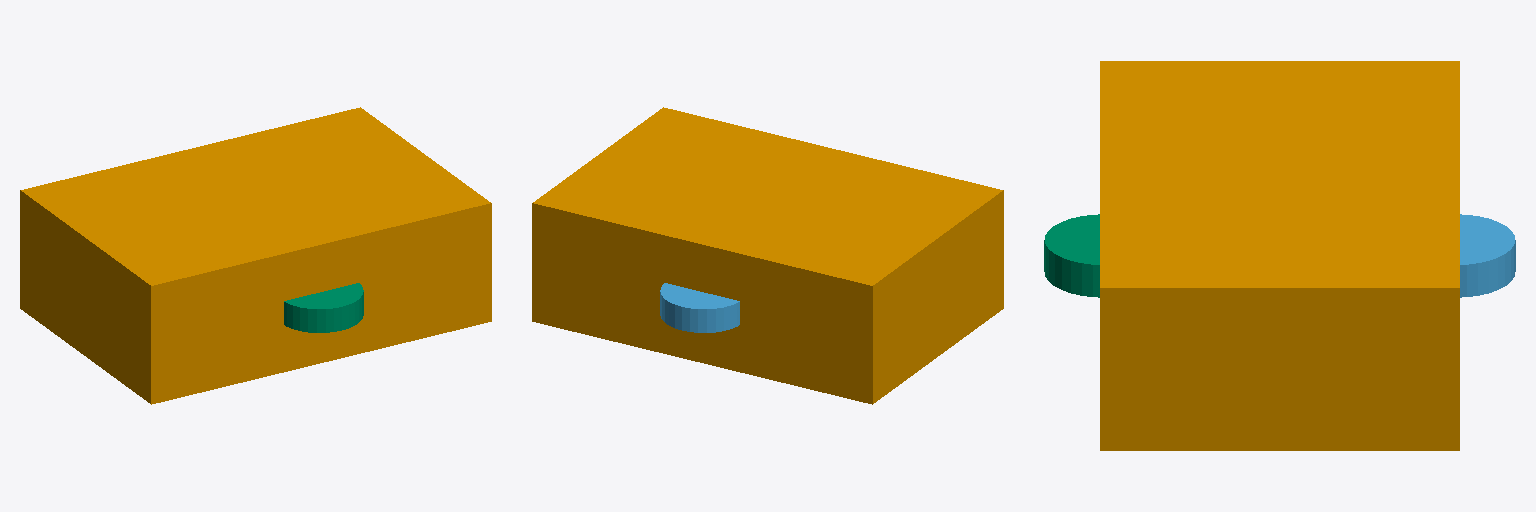
URDF robot description (my_robot):
<?xml version="1.0"?>
<robot name="my_robot">

  <!-- Base link -->
  <link name="base_link">
    <visual>
      <geometry>
        <box size="0.3 0.2 0.1"/>
      </geometry>
      <material name="gray"/>
    </visual>
  </link>

  <!-- Left wheel link -->
  <link name="left_wheel_link">
    <visual>
      <geometry>
        <cylinder radius="0.03354" length="0.02"/>
      </geometry>
      <material name="black"/>
    </visual>
  </link>

  <!-- Right wheel link -->
  <link name="right_wheel_link">
    <visual>
      <geometry>
        <cylinder radius="0.03354" length="0.02"/>
      </geometry>
      <material name="black"/>
    </visual>
  </link>

  <!-- Left wheel joint -->
  <joint name="left_wheel_joint" type="continuous">
    <parent link="base_link"/>
    <child link="left_wheel_link"/>
    <origin xyz="0 0.0975 0" rpy="0 0 0"/>
    <axis xyz="0 1 0"/>
  </joint>

  <!-- Right wheel joint -->
  <joint name="right_wheel_joint" type="continuous">
    <parent link="base_link"/>
    <child link="right_wheel_link"/>
    <origin xyz="0 -0.0975 0" rpy="0 0 0"/>
    <axis xyz="0 1 0"/>
  </joint>

  <!-- Left wheel transmission -->
  <transmission name="left_wheel_trans">
    <type>transmission_interface/SimpleTransmission</type>
    <joint name="left_wheel_joint">
      <hardwareInterface>hardware_interface/VelocityJointInterface</hardwareInterface>
    </joint>
    <actuator name="left_motor">
      <hardwareInterface>hardware_interface/VelocityJointInterface</hardwareInterface>
      <mechanicalReduction>1</mechanicalReduction>
    </actuator>
  </transmission>

  <!-- Right wheel transmission -->
  <transmission name="right_wheel_trans">
    <type>transmission_interface/SimpleTransmission</type>
    <joint name="right_wheel_joint">
      <hardwareInterface>hardware_interface/VelocityJointInterface</hardwareInterface>
    </joint>
    <actuator name="right_motor">
      <hardwareInterface>hardware_interface/VelocityJointInterface</hardwareInterface>
      <mechanicalReduction>1</mechanicalReduction>
    </actuator>
  </transmission>

</robot>

--- Render facts (derived) ---
The picture shows the robot from 3 angles, left to right: view 1: azimuth 30°, elevation 25°; view 2: azimuth 150°, elevation 25°; view 3: azimuth 270°, elevation 25°; orthographic projection.
Robot: my_robot — 3 links, 2 joints (2 continuous); root link base_link; default pose: all joints at 0.
Links seen in each view (by area): view 1: base_link, right_wheel_link; view 2: base_link, left_wheel_link; view 3: base_link, left_wheel_link, right_wheel_link.
Boxes of the visible links, x1,y1,x2,y2 form: base_link: [20, 107, 491, 404]; right_wheel_link: [284, 283, 363, 332]; base_link: [532, 107, 1003, 404]; left_wheel_link: [660, 283, 739, 332]; base_link: [1100, 61, 1459, 450]; left_wheel_link: [1460, 214, 1515, 297]; right_wheel_link: [1044, 214, 1099, 297].
Bounding box of the posed robot: 0.3 × 0.2621 × 0.1 m (x, y, z).
Geometry: primitives only (box / cylinder / sphere), no mesh files.
